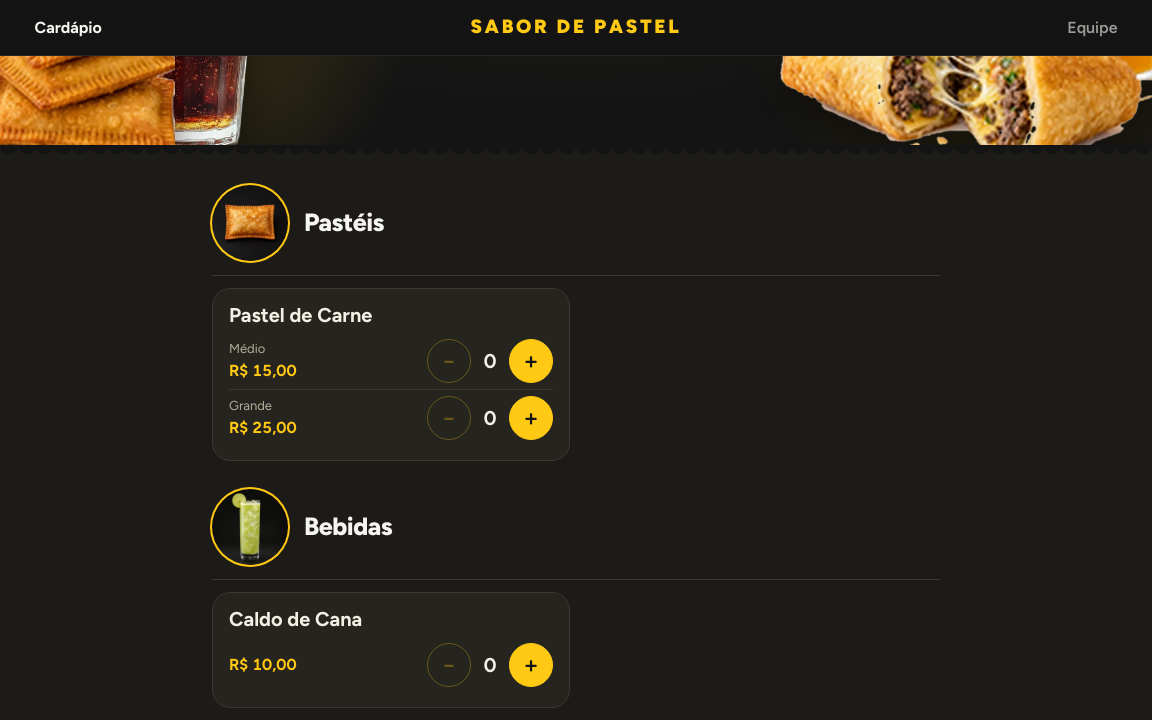
erro de item esgotado mantém o carrinho e mostra a mensagem
(page scrolled)
Expected: the text "Pastel de Carne" is shown, 229,303 -> 372,327
Click the button named "Aumentar Pastel de Carne M". click: click(531, 361)
box: 509,339 -> 553,383
(page scrolled)
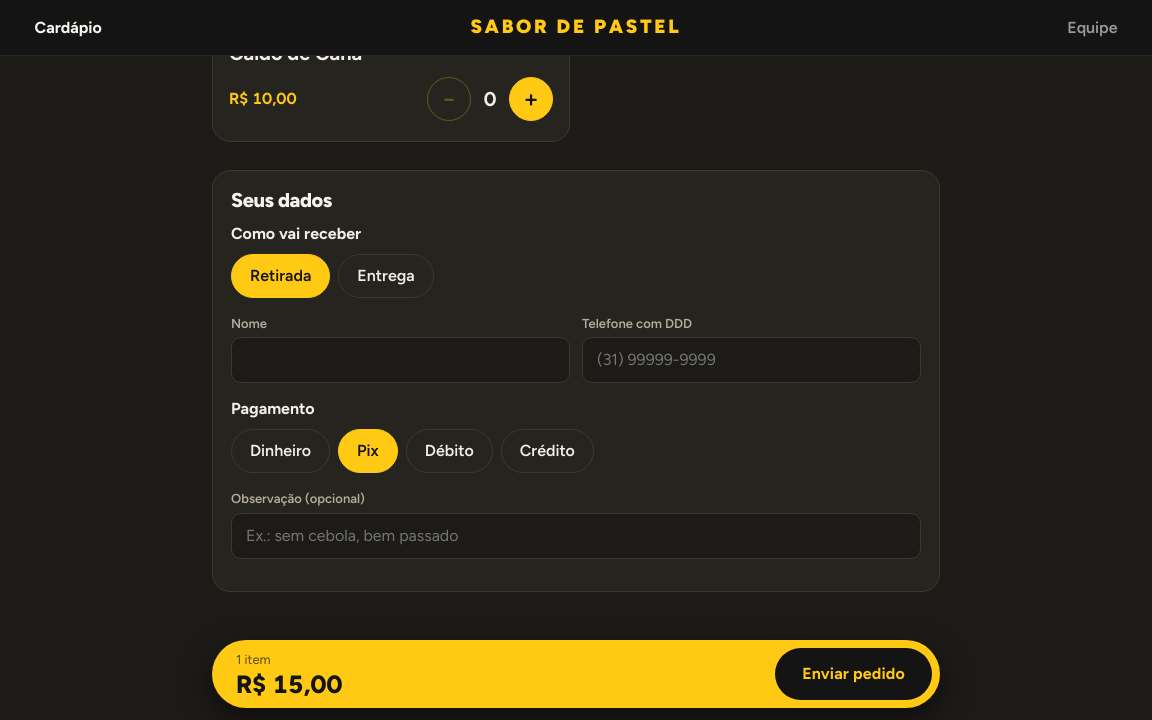
Type "Ana" into the field labelled "Nome". click: (400, 360)
box: 231,337 -> 570,383
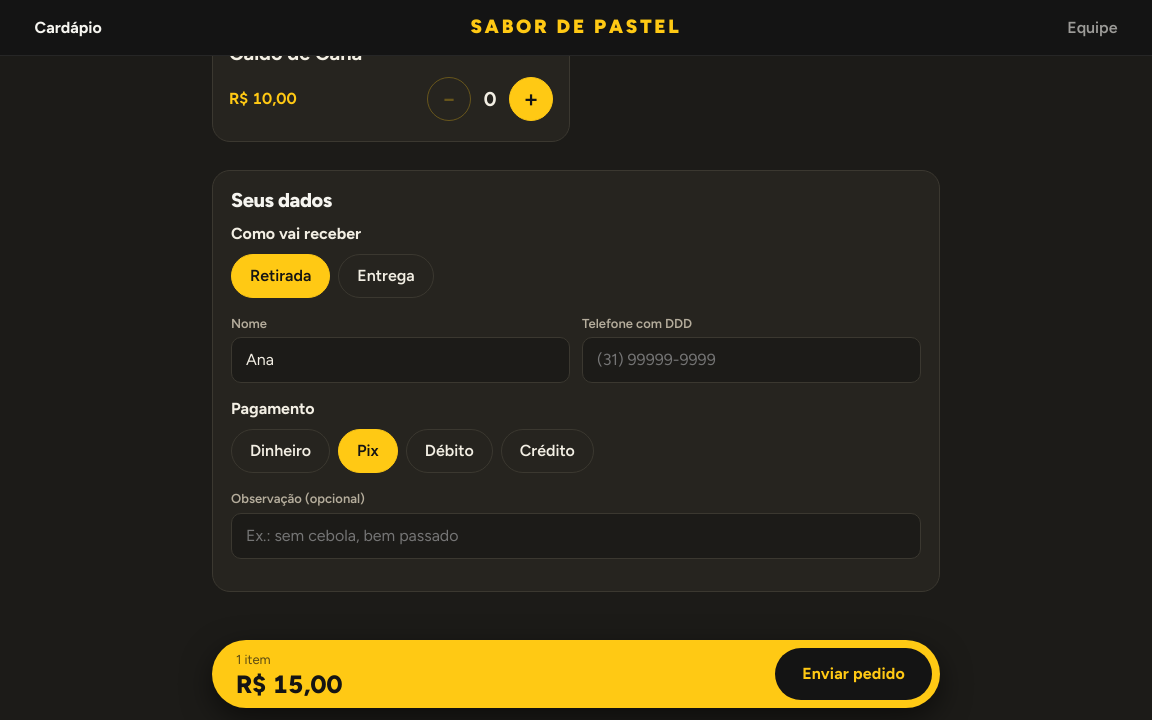
Type "31975423850" into the field labelled "Telefone com DDD". click: (752, 360)
box: 582,337 -> 921,383
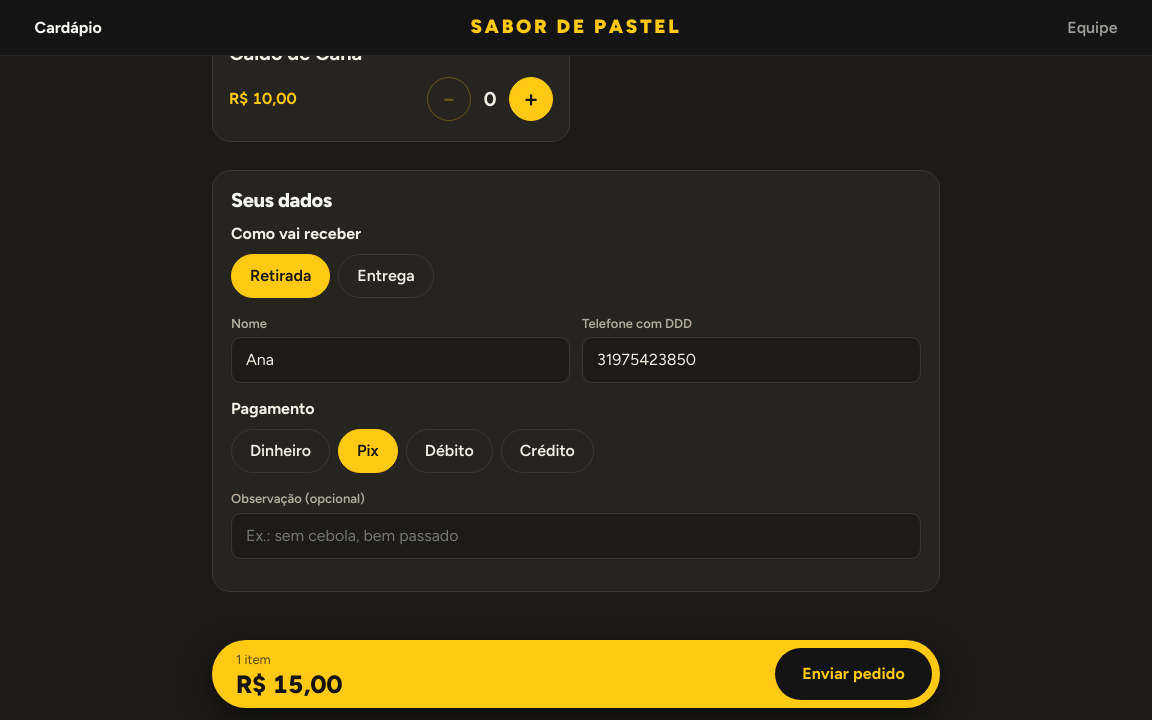
Click the button "Enviar pedido". click: click(854, 674)
box: 775,648 -> 932,700
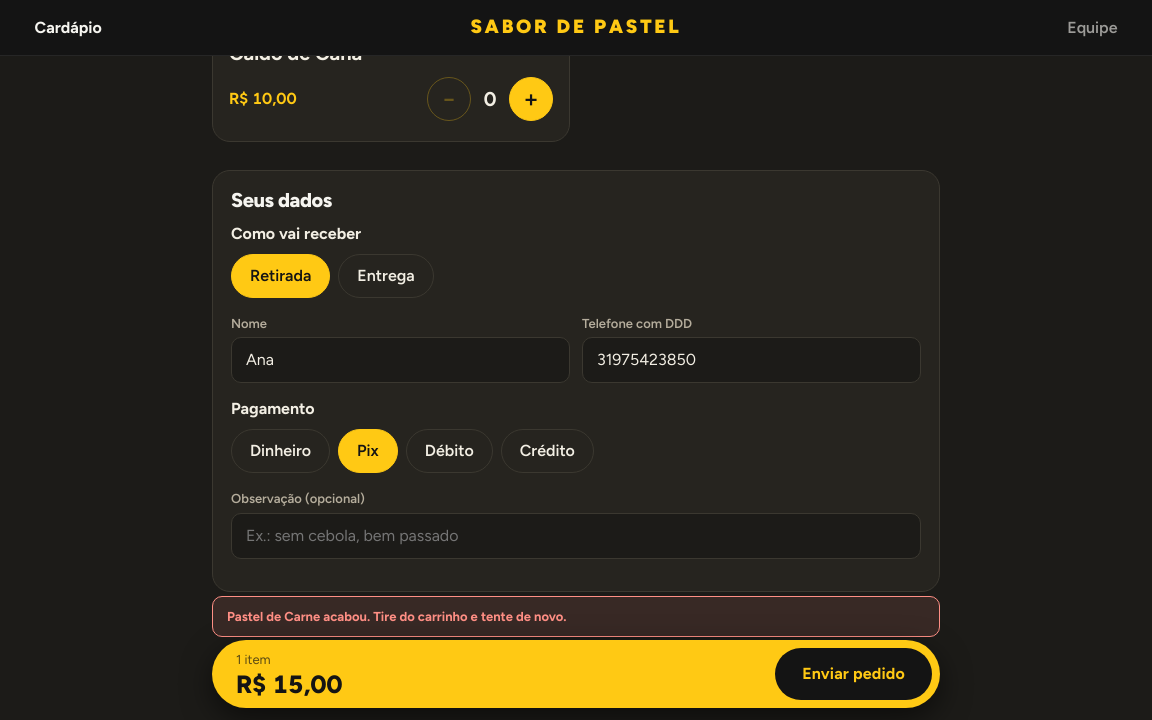
Expected: the text "1 item" is shown, 236,652 -> 271,667
Expected: the message reads "Pastel de Carne acabou. Tire do carrinho e tente de novo.", 227,609 -> 566,624
